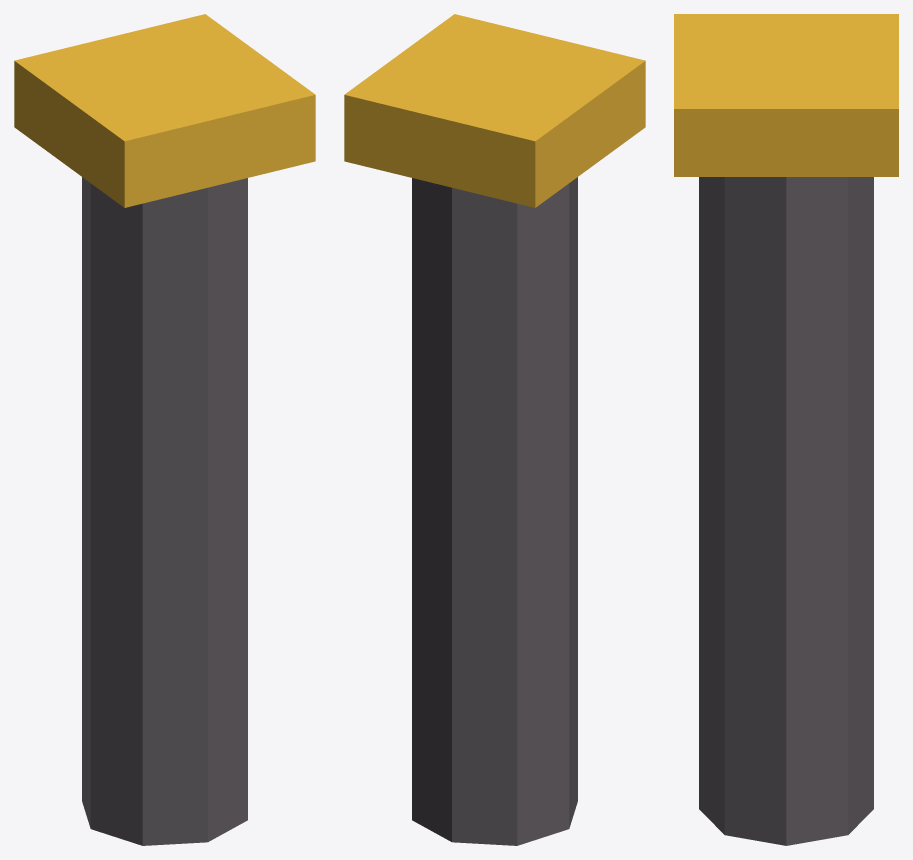
File: Bld_OR_Pillar_00.glb
3 renders of one model, left to right at view 1: azimuth 30°, elevation 25°; view 2: azimuth 150°, elevation 25°; view 3: azimuth 270°, elevation 25°, orthographic.
Visible parts, largest first — view 1: Bld_OR_Pillar_00; view 2: Bld_OR_Pillar_00; view 3: Bld_OR_Pillar_00.
Boxes of the visible parts, x1=… form: Bld_OR_Pillar_00: x1=14, y1=14, x2=315, y2=845; Bld_OR_Pillar_00: x1=344, y1=14, x2=645, y2=845; Bld_OR_Pillar_00: x1=674, y1=14, x2=898, y2=845.
Bounding box in the file's own units: 0.9 × 3.3 × 0.9.
